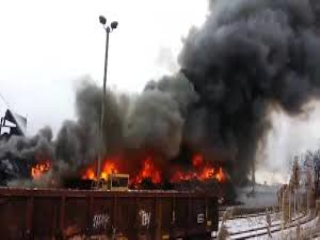smoke: (44, 12, 316, 161)
